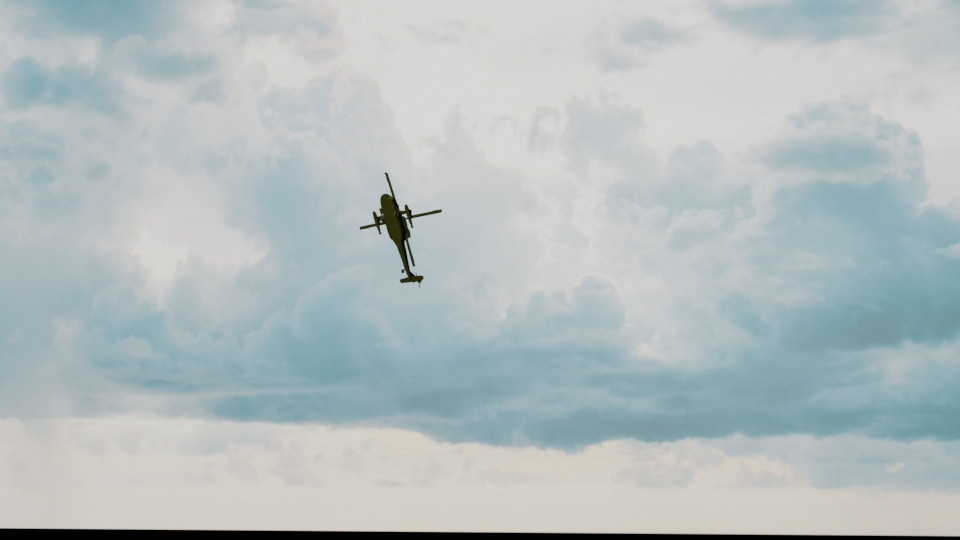heli: (357, 171, 443, 289)
